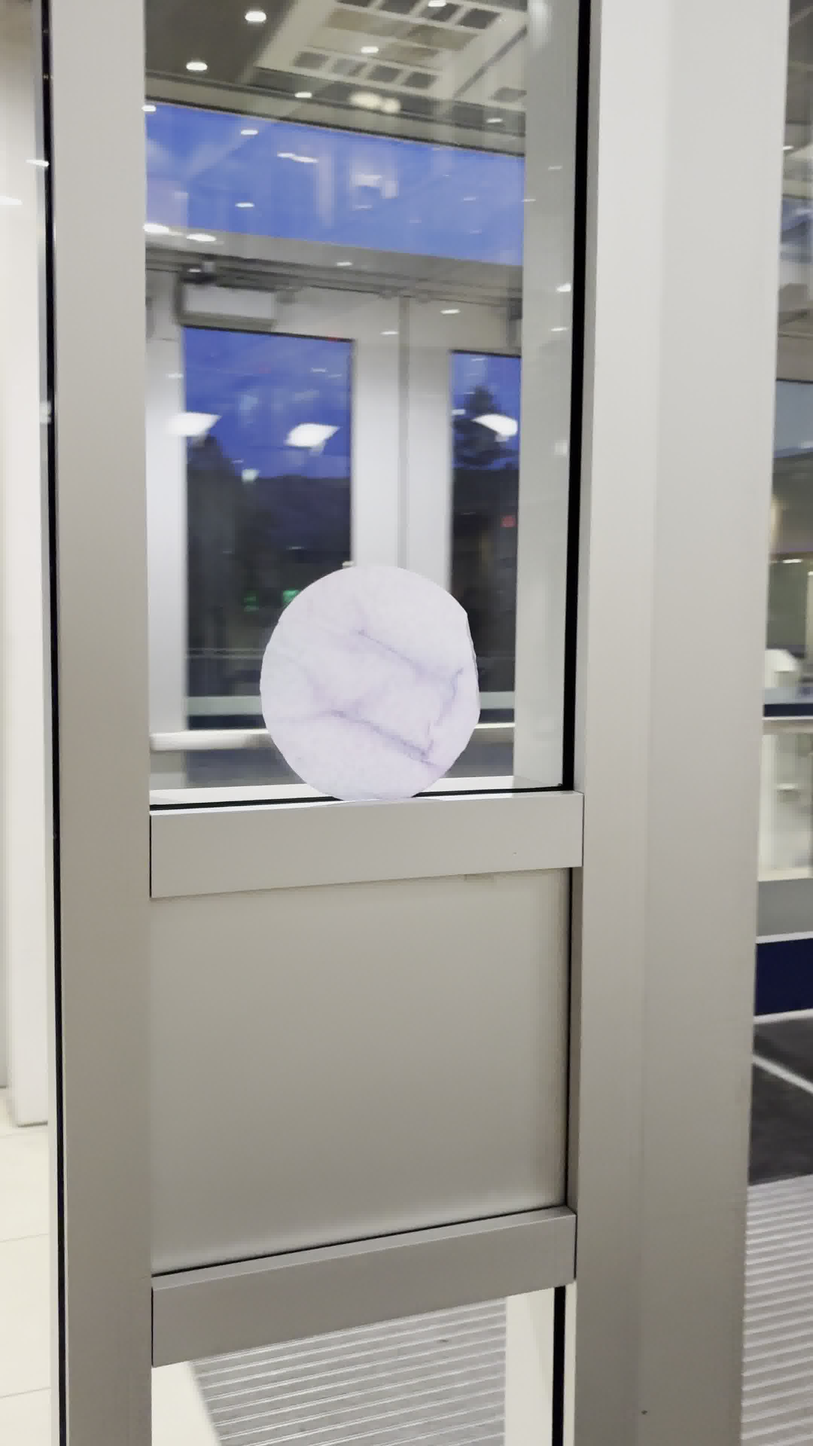Target: (259, 565, 480, 800)
